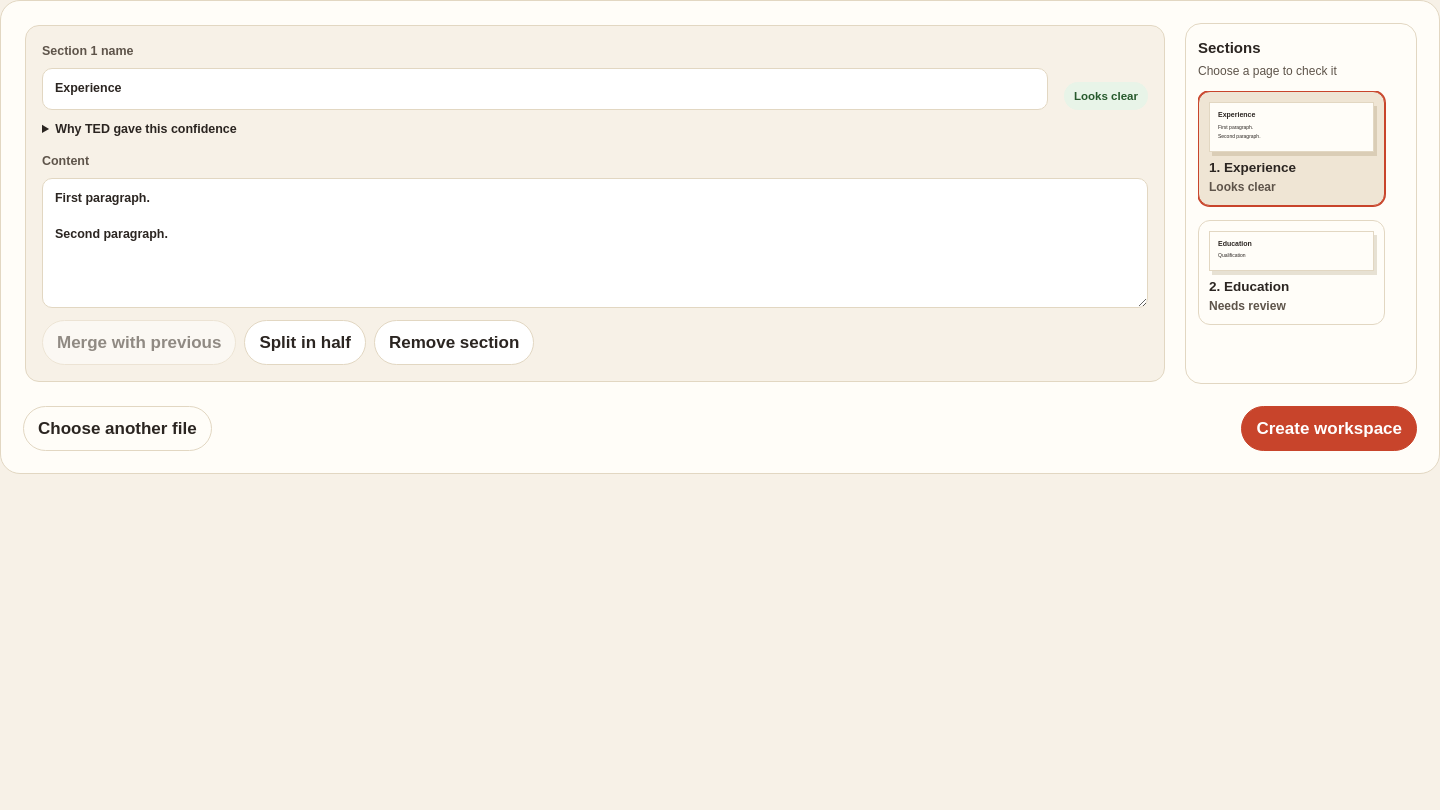
Test: ImportReviewPanel › does not carry a pending remove-confirmation onto a section produced by split or merge
The image size is (1440, 810).
# Arm the remove-confirmation, then split the section instead of confirming.
Click the button "Remove section".
click(454, 342)  # box left=374, top=320, right=534, bottom=365
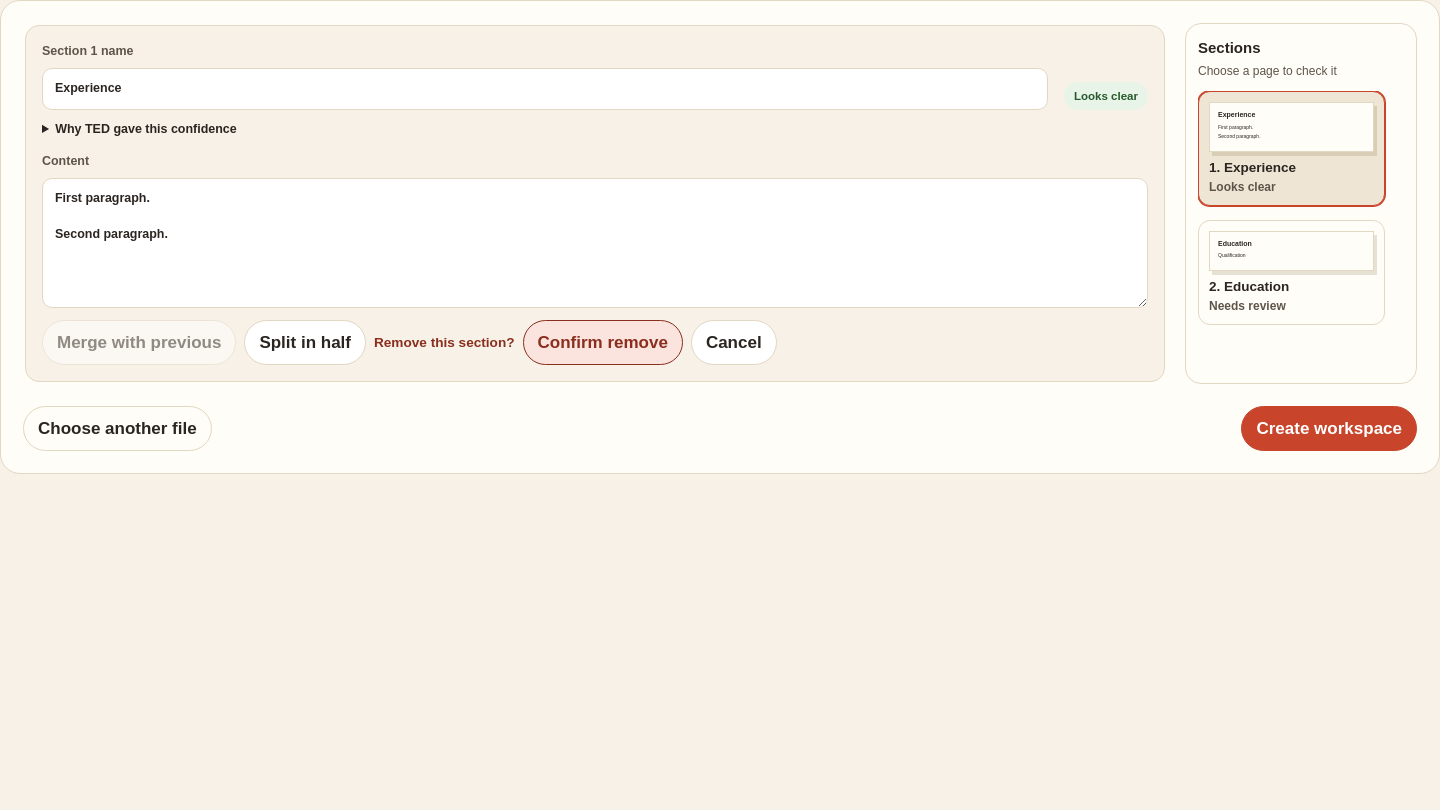
expect the text "Remove this section?" is shown: met, box left=374, top=332, right=514, bottom=353
Click the button "Split in half".
click(305, 342)  # box left=244, top=320, right=366, bottom=365
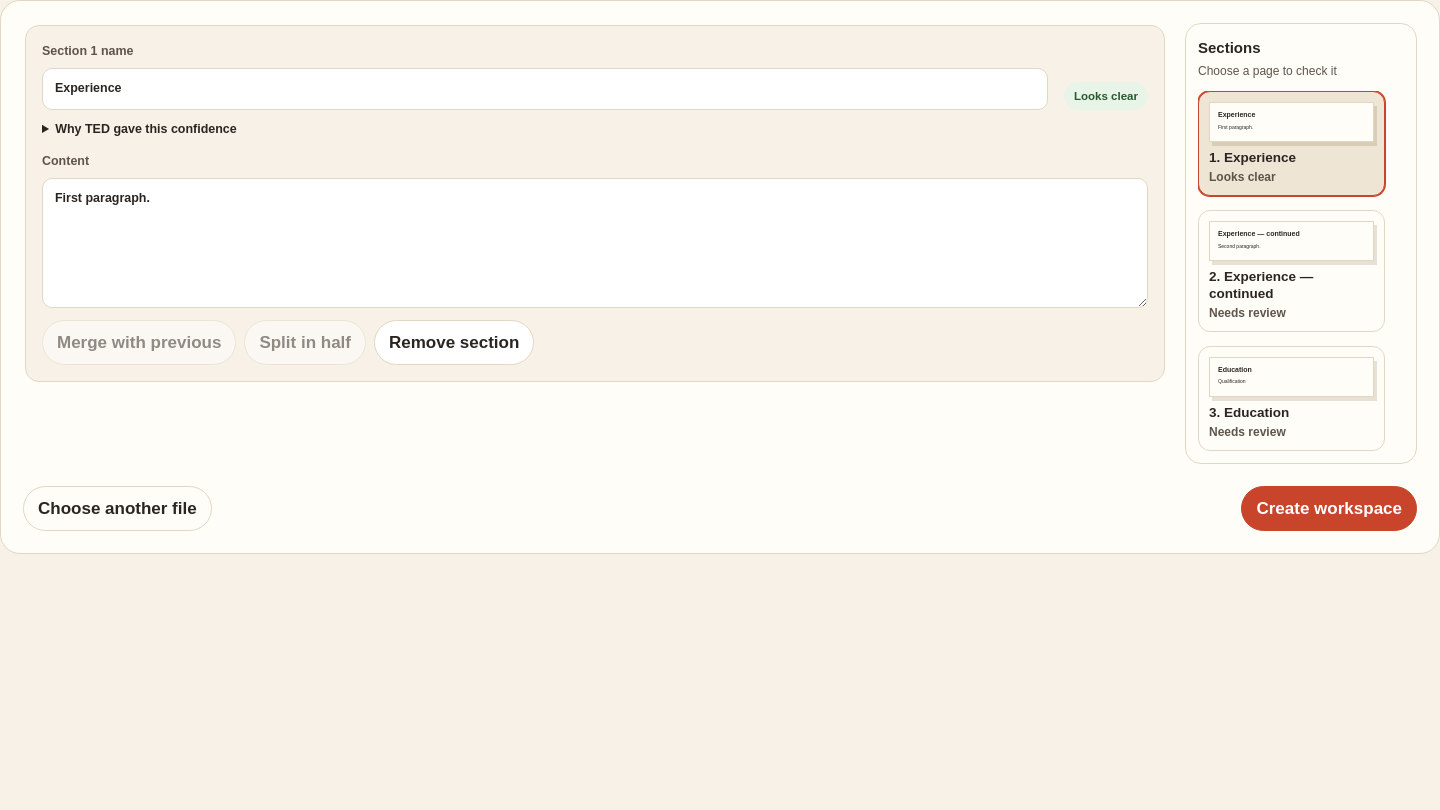
expect the text "Remove this section?" is gone: met
expect the button "Remove section" is shown: met, box left=374, top=320, right=534, bottom=365
